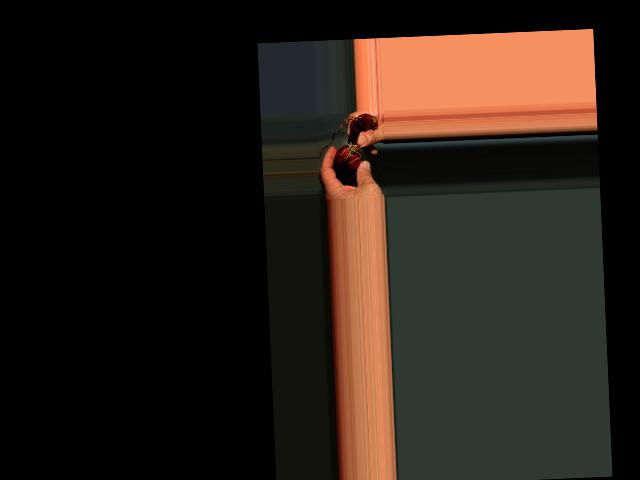onion: (334, 144, 362, 173)
